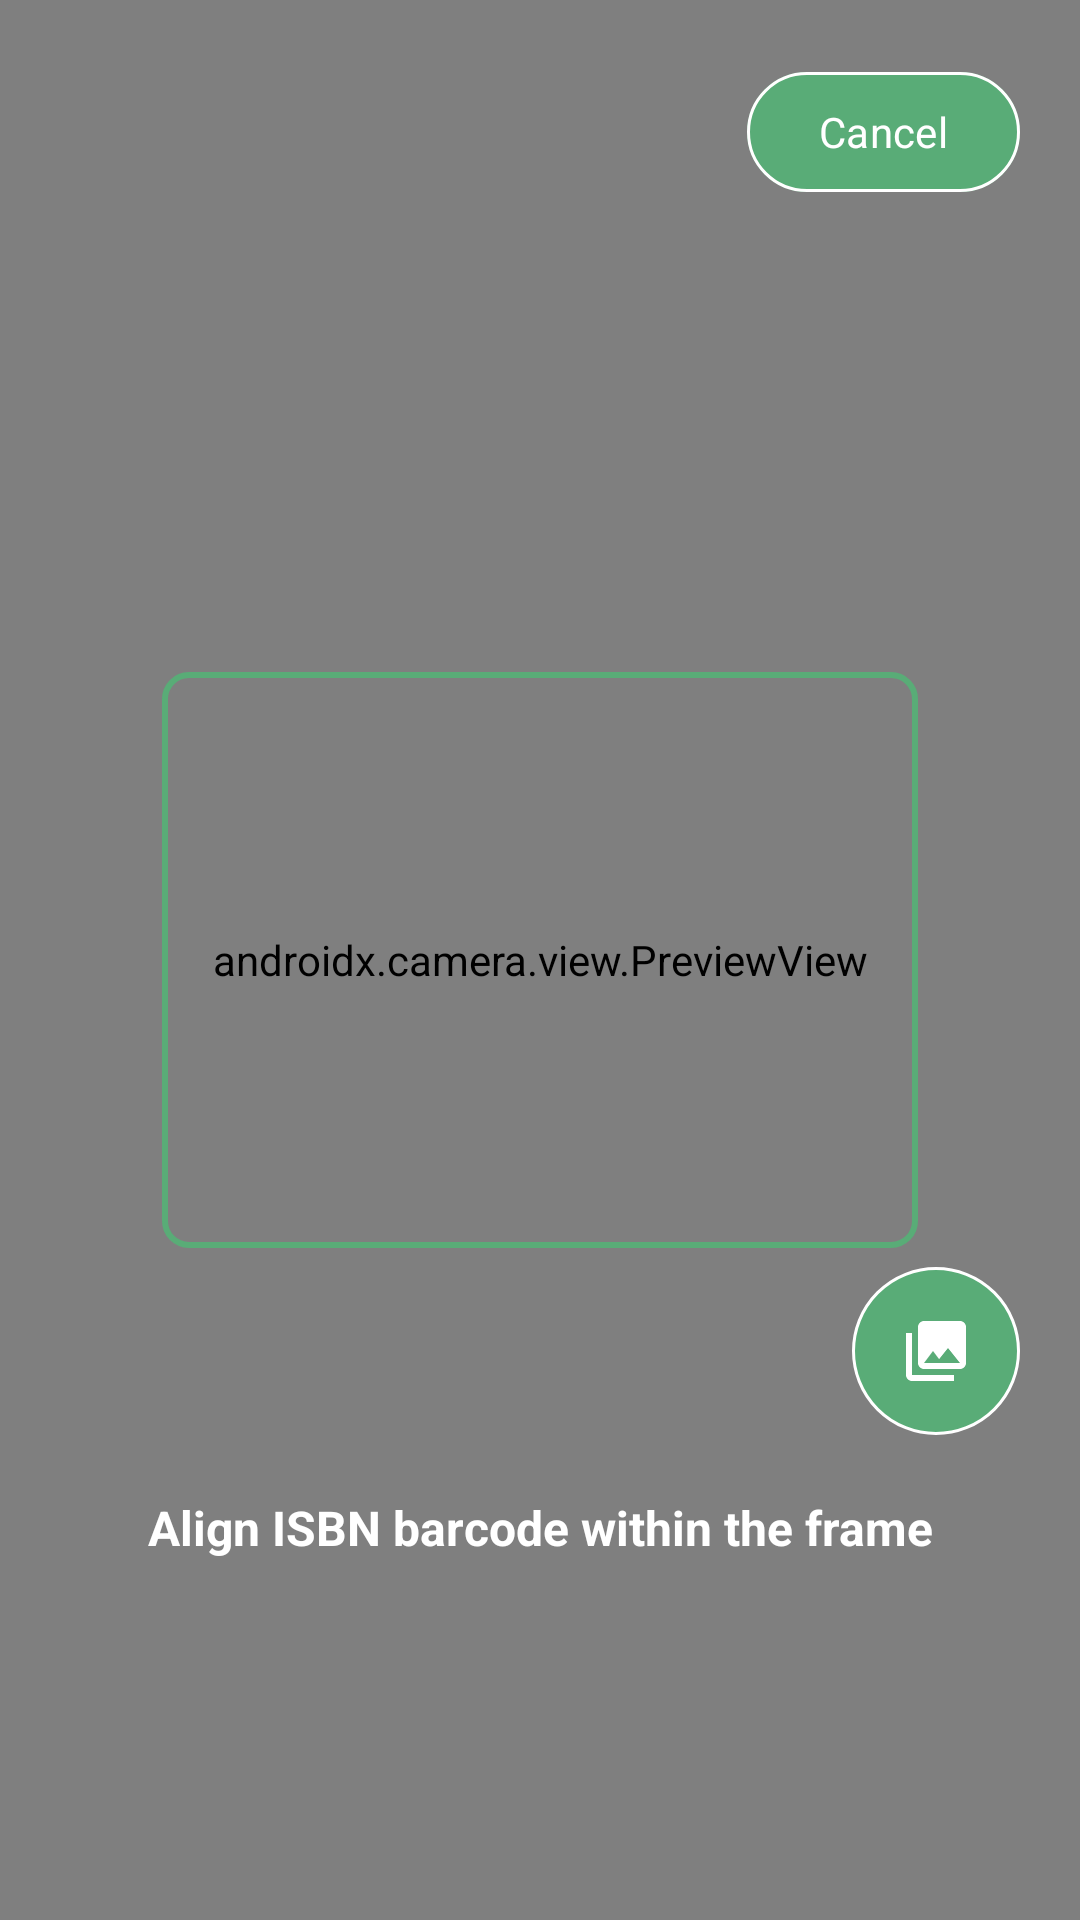

Icon bounding boxes for this 1080 × 1920 phone screenshot, format (x1, y1, x2, y2):
Upload Image: (852, 1267, 1020, 1435)
